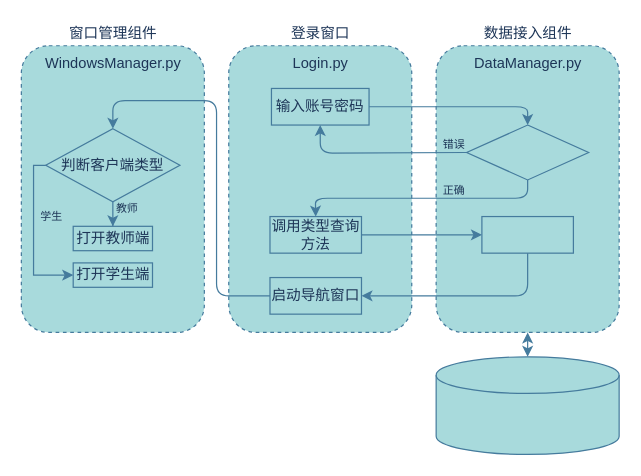
This 641x476 diagram has some shape labels left out. The centre of each missing label's shape, as x and y in pixels:
数据库: the point at 527,405
返回用户类型: the point at 527,234
验证账号密码: the point at 527,152
